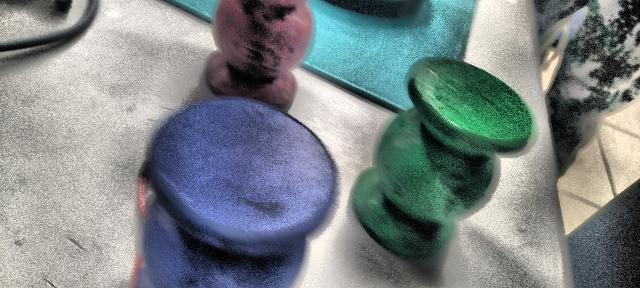blue: (139, 96, 337, 286)
green: (350, 56, 534, 264)
red: (204, 0, 316, 106)
